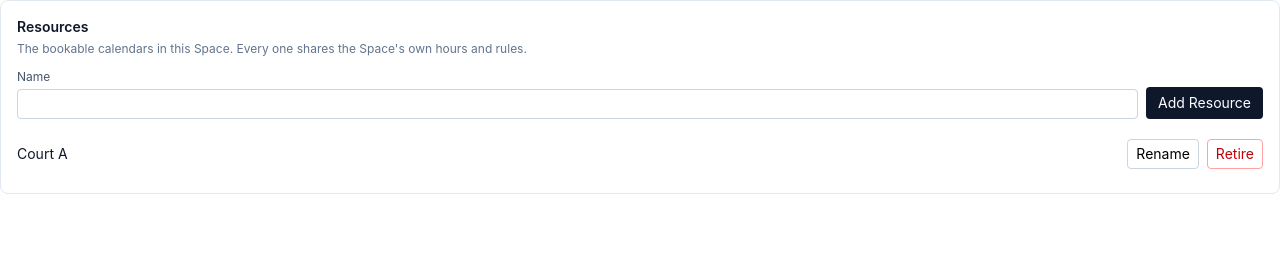
Test: ResourcesPanel › shows a conflict retire as an error on the row
Expected: the list item with test id "resource-1" is shown, x1=17 y1=131 x2=1263 y2=177
Click the button with test id "resource-1-retire-start": (1235, 154) x1=1207 y1=139 x2=1263 y2=169
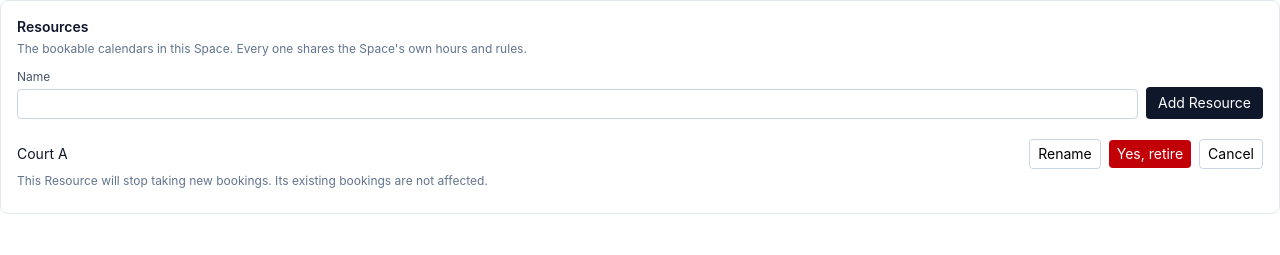
Click the button with test id "resource-1-retire-confirm-yes": (1150, 154) x1=1109 y1=140 x2=1191 y2=168
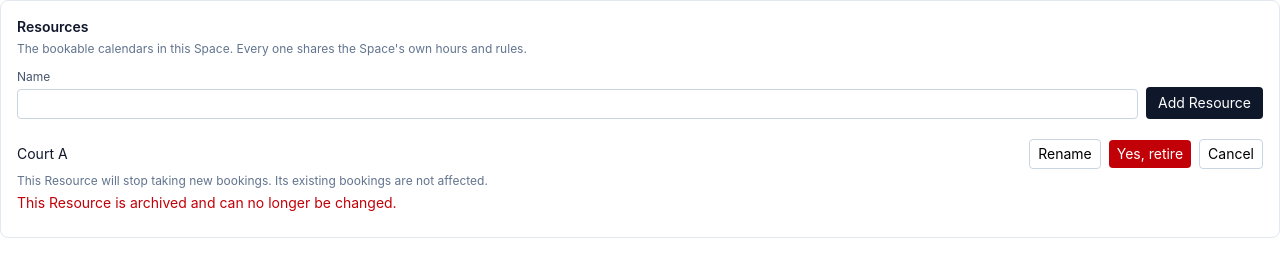
Expected: the message with test id "resource-1-error" reads "This Resource is archived and can no longer be changed.", x1=17 y1=194 x2=397 y2=211
